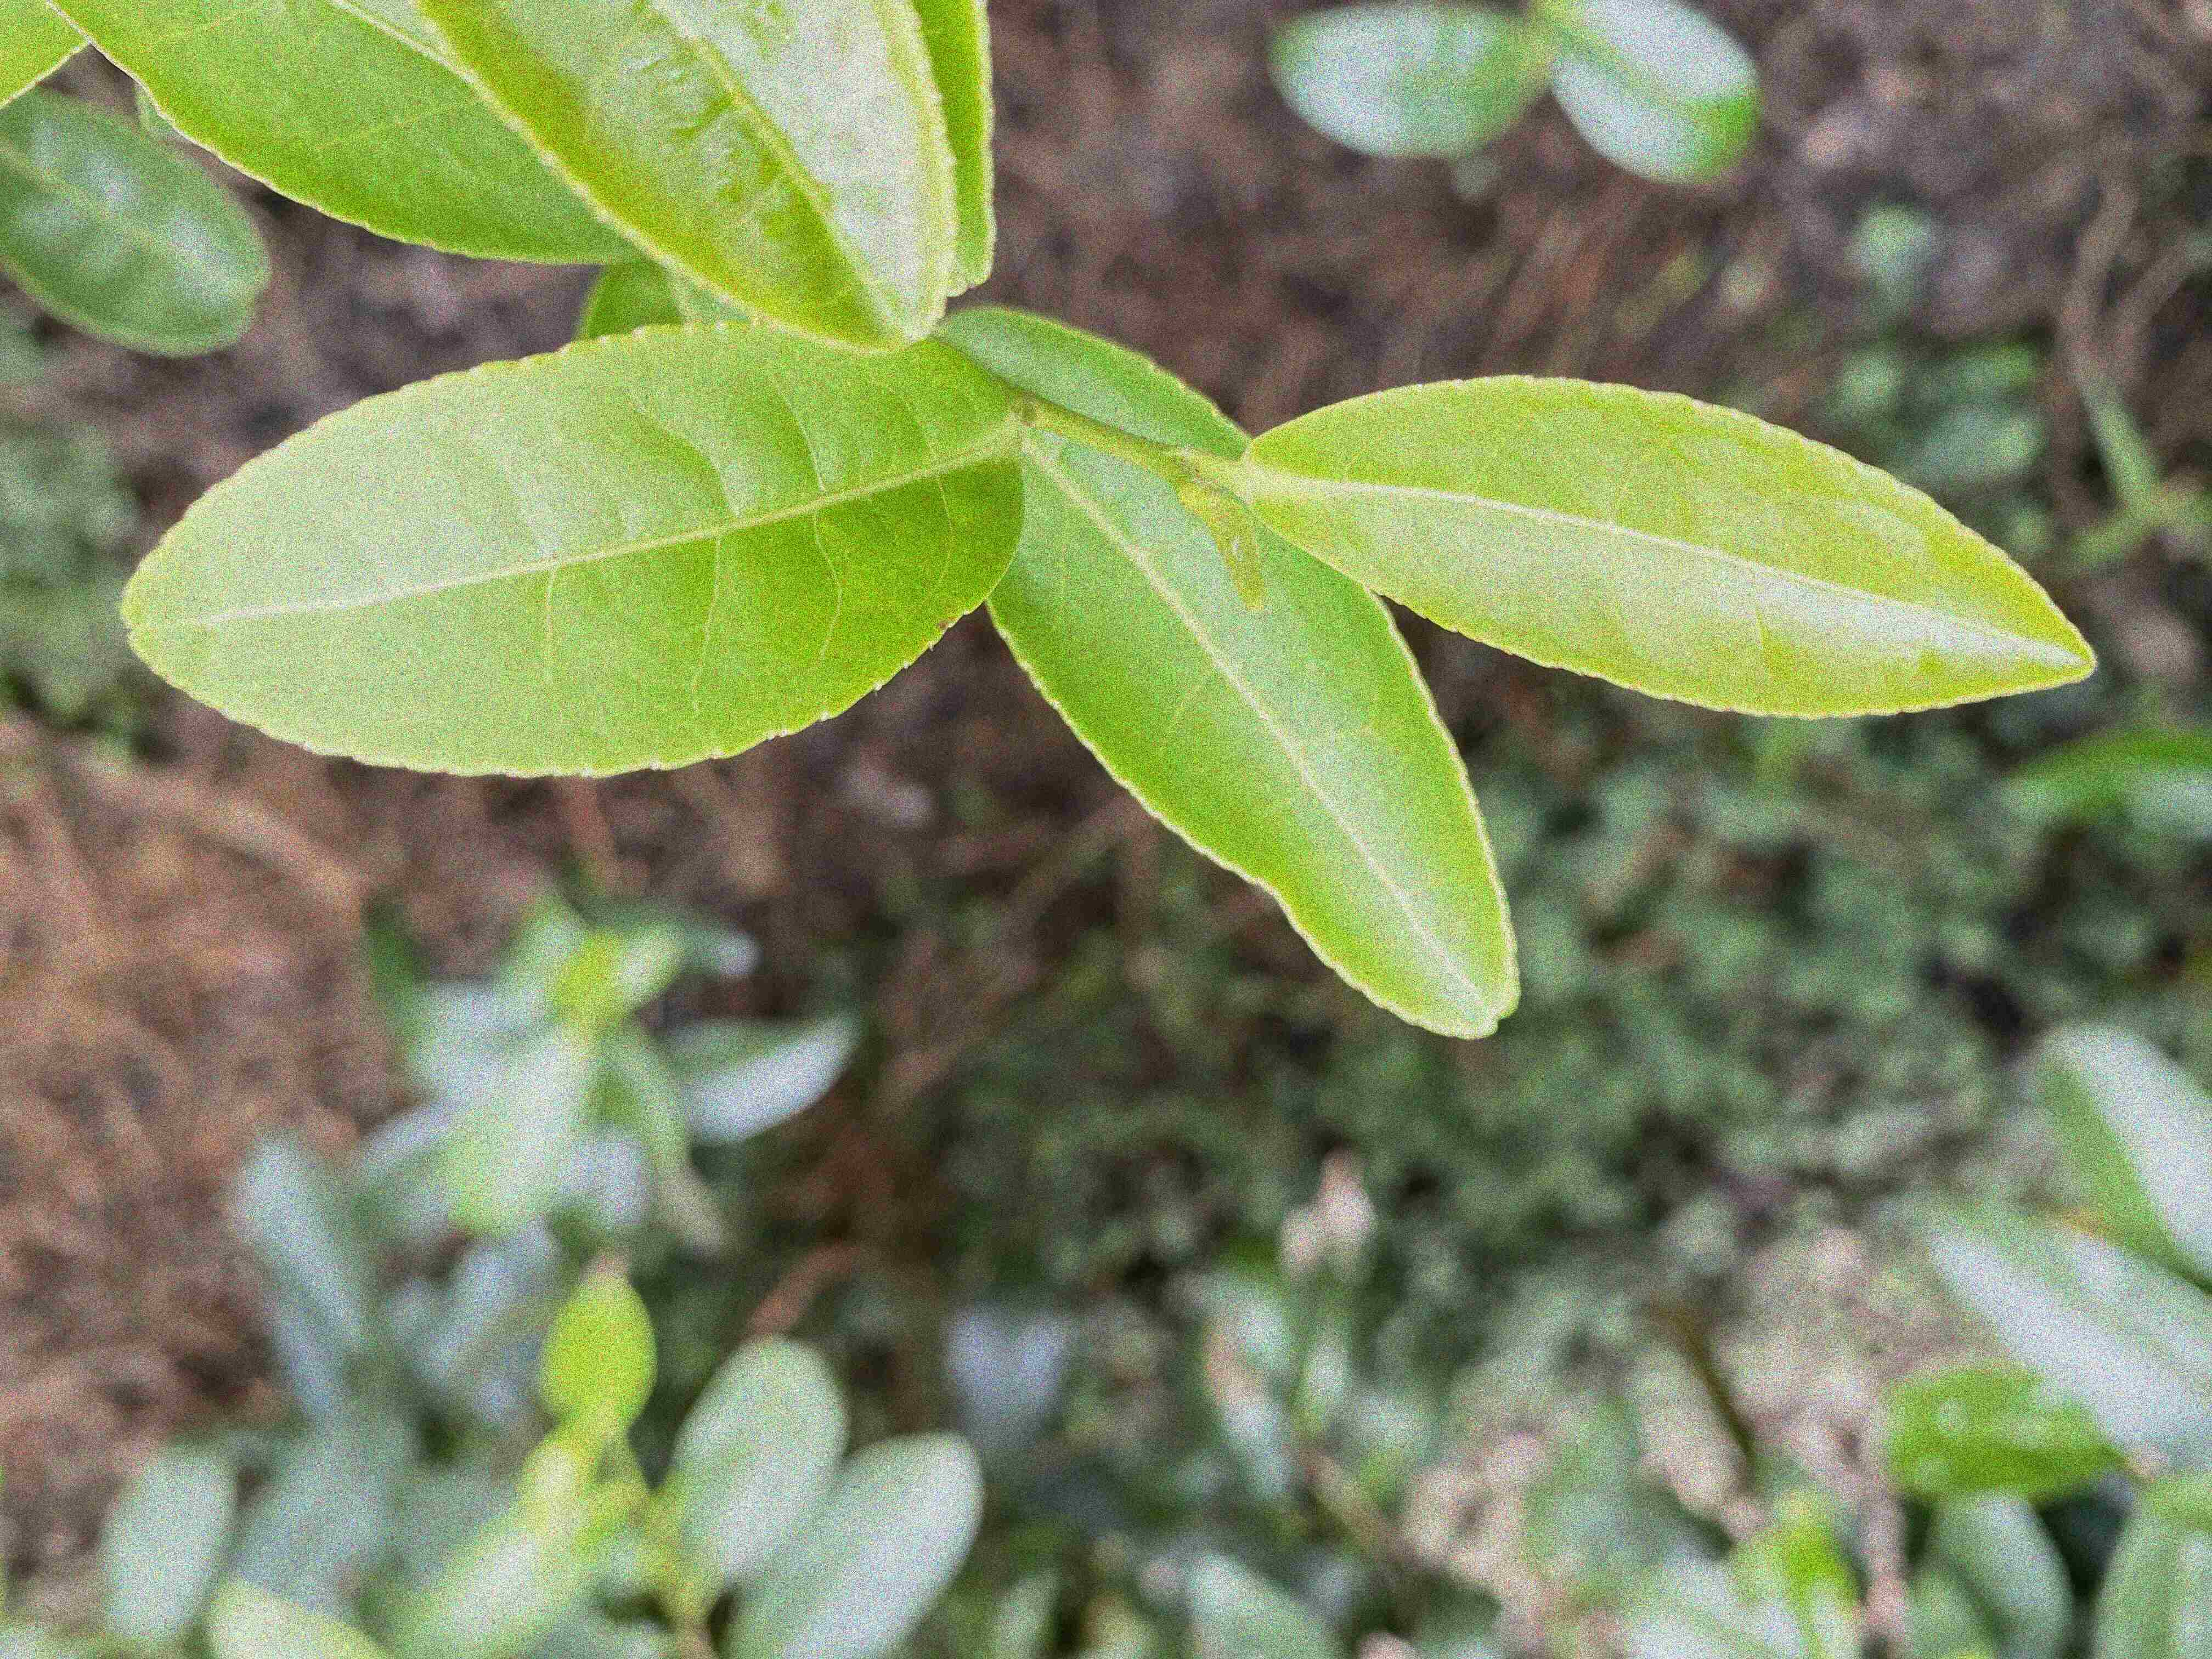healthy: (932, 310, 1521, 1042), (117, 317, 1028, 775), (1249, 371, 2099, 721), (411, 0, 958, 357)
